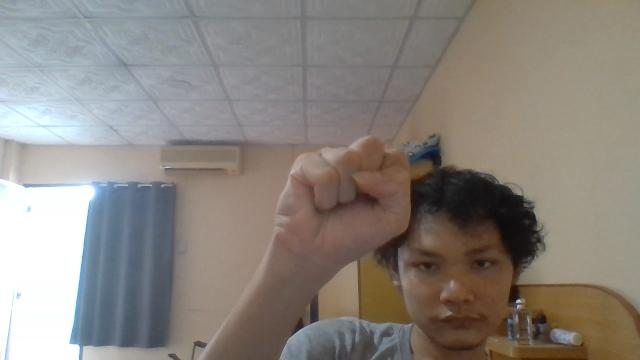forward: (268, 134, 412, 284)
